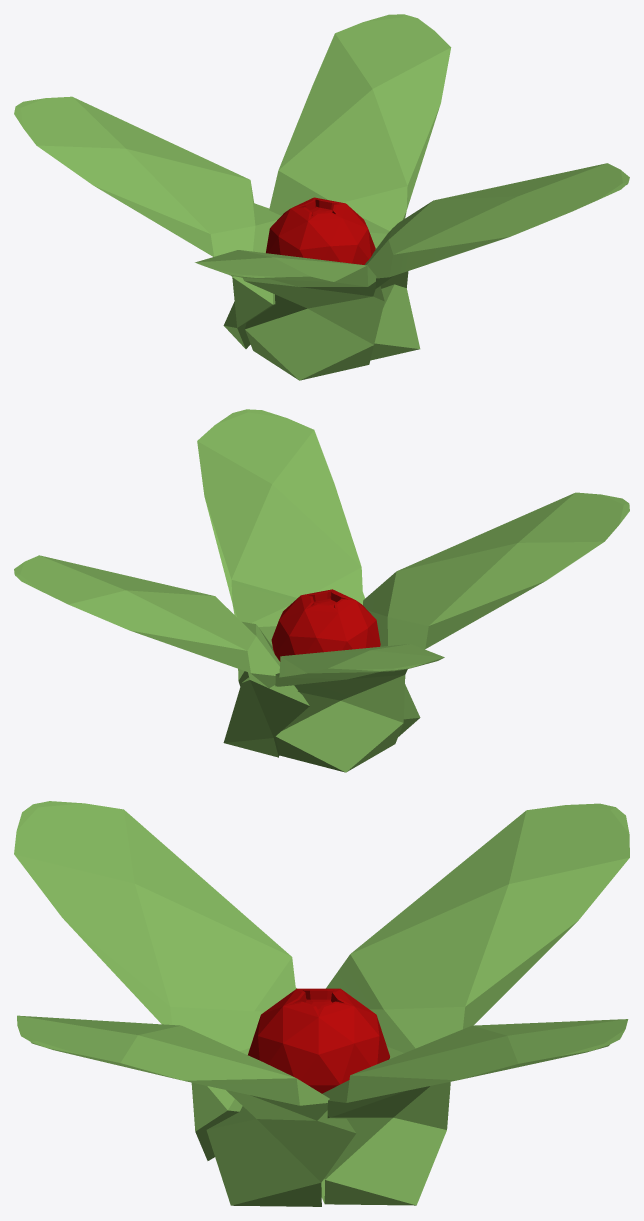
The model's file is Tropical berry Plant red.fbx.
The picture shows the model from 3 angles, top to bottom: view 1: azimuth 30°, elevation 25°; view 2: azimuth 150°, elevation 25°; view 3: azimuth 270°, elevation 25°; orthographic projection. The views are drawn at different scales.
Visible parts, largest first — view 1: Cube.021; view 2: Cube.021; view 3: Cube.021.
Boxes of the visible parts, left/top/right/bottom form: Cube.021: left=14, top=14, right=629, bottom=380; Cube.021: left=14, top=409, right=629, bottom=772; Cube.021: left=14, top=801, right=629, bottom=1206.
Bounding box in the file's own units: 31.98 × 14.25 × 32.73.
